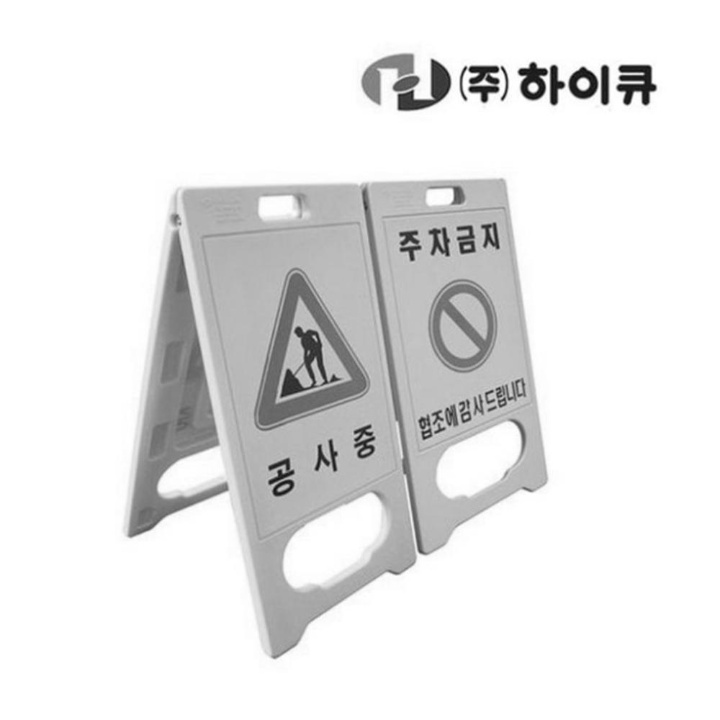const: (261, 313, 359, 396)
